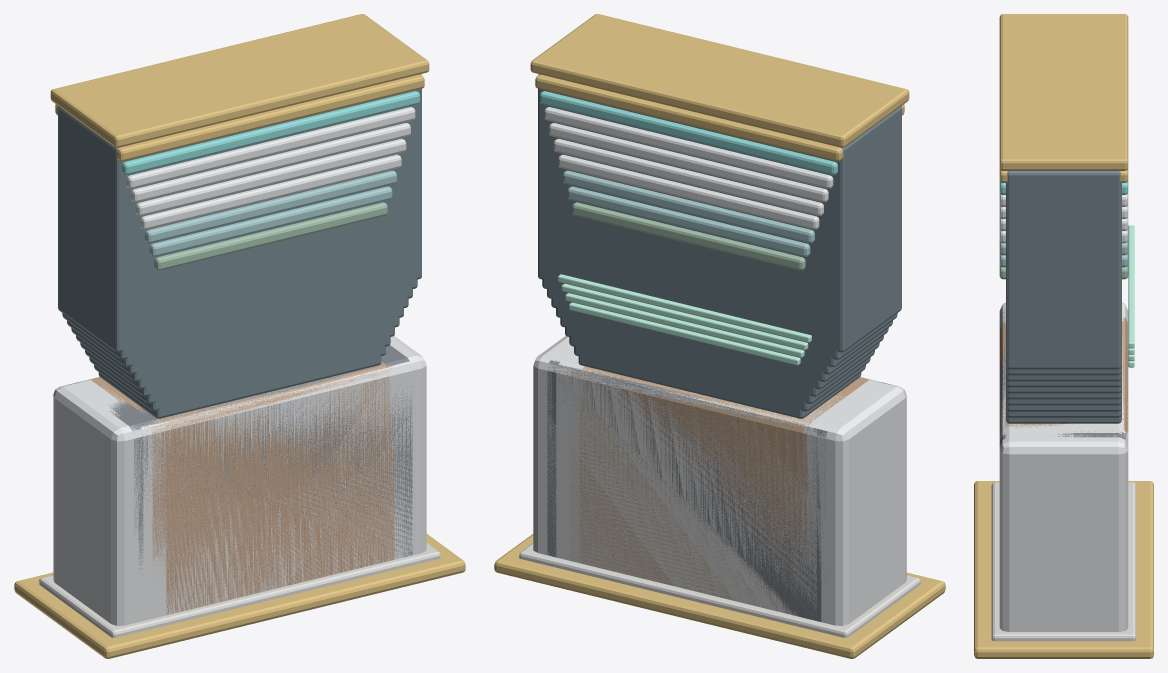
Rendered from Gear10.fbx.
3 renders of one model, left to right at view 1: azimuth 30°, elevation 25°; view 2: azimuth 150°, elevation 25°; view 3: azimuth 270°, elevation 25°, orthographic. The views are drawn at different scales.
Parts seen in each view (by area): view 1: Gear10_V10_Platinum, Gear10_V10_Gold, Gear10_V4_Wood, Gear10_V10_Glass, Gear10_V4_Glass, Gear10_V1_Wood, Gear10_V6_Platinum, Gear10_V8_Graphite, Gear10_V9_Platinum, Gear10_V8_Glass, Gear10_V9_Gold, Gear10_V2_Glass (+21 smaller); view 2: Gear10_V6_Platinum, Gear10_V10_Glass, Gear10_V10_Gold, Gear10_V10_Platinum, Gear10_V1_Wood, Gear10_V7_Graphite, Gear10_V9_Gold, Gear10_V4_Glass, Gear10_V3_Wood, Gear10_V9_Platinum, Gear10_V1_Glass, Gear10_V2_Glass (+22 smaller); view 3: Gear10_V10_Gold, Gear10_V10_Platinum, Gear10_V10_Glass, Gear10_V9_Gold, Gear10_V10_Chrome, Gear10_V9_Platinum, Gear10_V5_Platinum, Gear10_V10_Glow, Gear10_V7_Chrome, Gear10_V5_Glass, Gear10_V3_Glass, Gear10_V4_Glass (+14 smaller).
Part boxes in pixels (left/top/right/bottom): Gear10_V10_Platinum: left=53, top=336, right=426, bottom=625; Gear10_V10_Gold: left=14, top=14, right=465, bottom=658; Gear10_V4_Wood: left=91, top=365, right=394, bottom=600; Gear10_V10_Glass: left=58, top=74, right=421, bottom=352; Gear10_V4_Glass: left=85, top=189, right=394, bottom=396; Gear10_V1_Wood: left=164, top=371, right=380, bottom=614; Gear10_V6_Platinum: left=78, top=123, right=410, bottom=620; Gear10_V8_Graphite: left=69, top=345, right=412, bottom=559; Gear10_V9_Platinum: left=66, top=357, right=417, bottom=624; Gear10_V8_Glass: left=67, top=144, right=412, bottom=367; Gear10_V9_Gold: left=22, top=74, right=458, bottom=656; Gear10_V2_Glass: left=94, top=222, right=385, bottom=411; Gear10_V6_Platinum: left=549, top=123, right=881, bottom=616; Gear10_V10_Glass: left=538, top=74, right=901, bottom=352; Gear10_V10_Gold: left=494, top=14, right=945, bottom=658; Gear10_V10_Platinum: left=533, top=336, right=906, bottom=625; Gear10_V1_Wood: left=579, top=366, right=794, bottom=607; Gear10_V7_Graphite: left=552, top=362, right=885, bottom=621; Gear10_V9_Gold: left=501, top=74, right=937, bottom=656; Gear10_V4_Glass: left=565, top=185, right=874, bottom=396; Gear10_V3_Wood: left=570, top=372, right=804, bottom=562; Gear10_V9_Platinum: left=542, top=348, right=842, bottom=624; Gear10_V1_Glass: left=578, top=225, right=861, bottom=418; Gear10_V2_Glass: left=574, top=233, right=865, bottom=411; Gear10_V10_Gold: left=974, top=14, right=1153, bottom=658; Gear10_V10_Platinum: left=999, top=303, right=1128, bottom=631; Gear10_V10_Glass: left=1006, top=171, right=1121, bottom=369; Gear10_V9_Gold: left=974, top=168, right=1153, bottom=647; Gear10_V10_Chrome: left=991, top=482, right=1136, bottom=641; Gear10_V9_Platinum: left=999, top=305, right=1128, bottom=447; Gear10_V5_Platinum: left=999, top=216, right=1128, bottom=438; Gear10_V10_Glow: left=1128, top=225, right=1134, bottom=348; Gear10_V7_Chrome: left=1128, top=489, right=1134, bottom=627; Gear10_V5_Glass: left=1006, top=390, right=1121, bottom=399; Gear10_V3_Glass: left=1006, top=402, right=1121, bottom=411; Gear10_V4_Glass: left=1006, top=396, right=1121, bottom=405.
Bounding box in the file's own units: 125 × 168 × 56.
